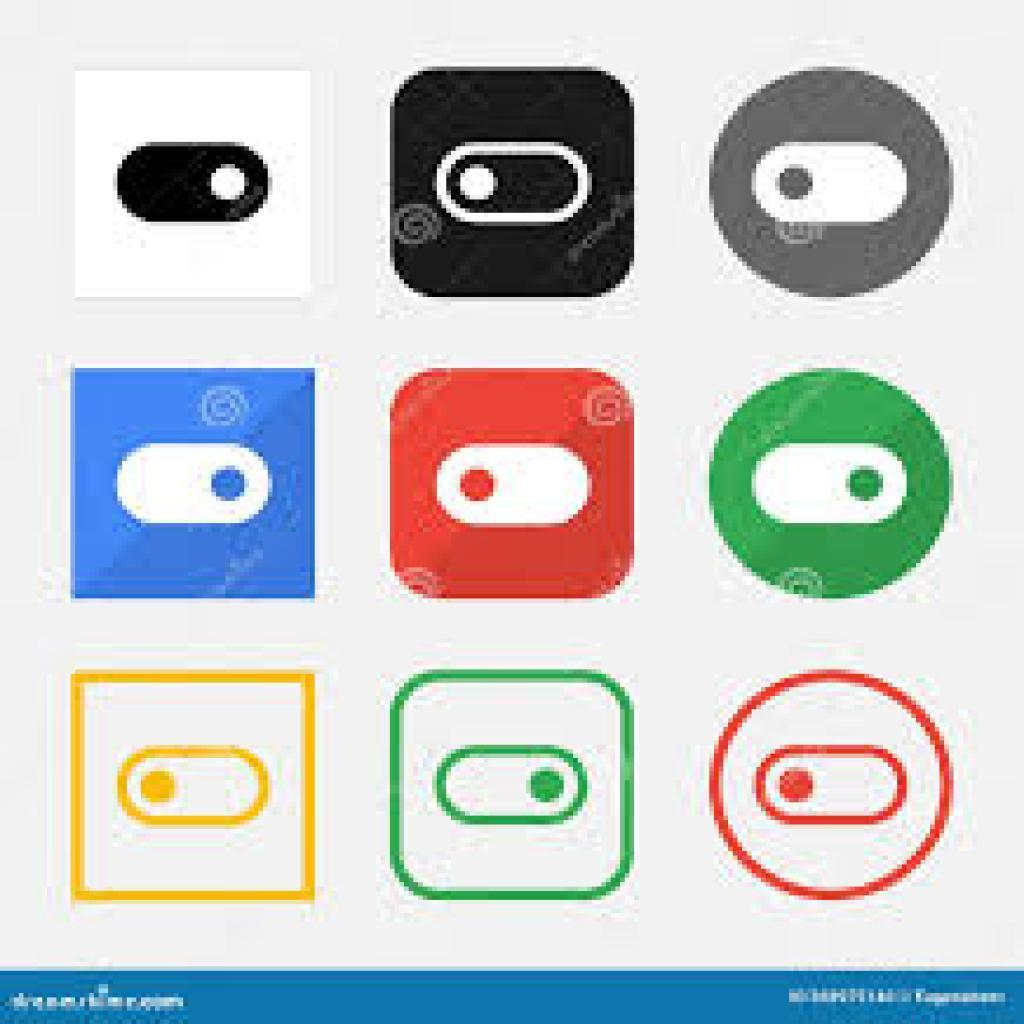switch: (111, 440, 276, 527), (750, 141, 910, 227), (753, 442, 911, 529), (435, 142, 594, 226), (434, 445, 593, 528), (117, 747, 273, 830), (117, 143, 271, 226), (754, 746, 911, 825), (436, 746, 590, 826)
